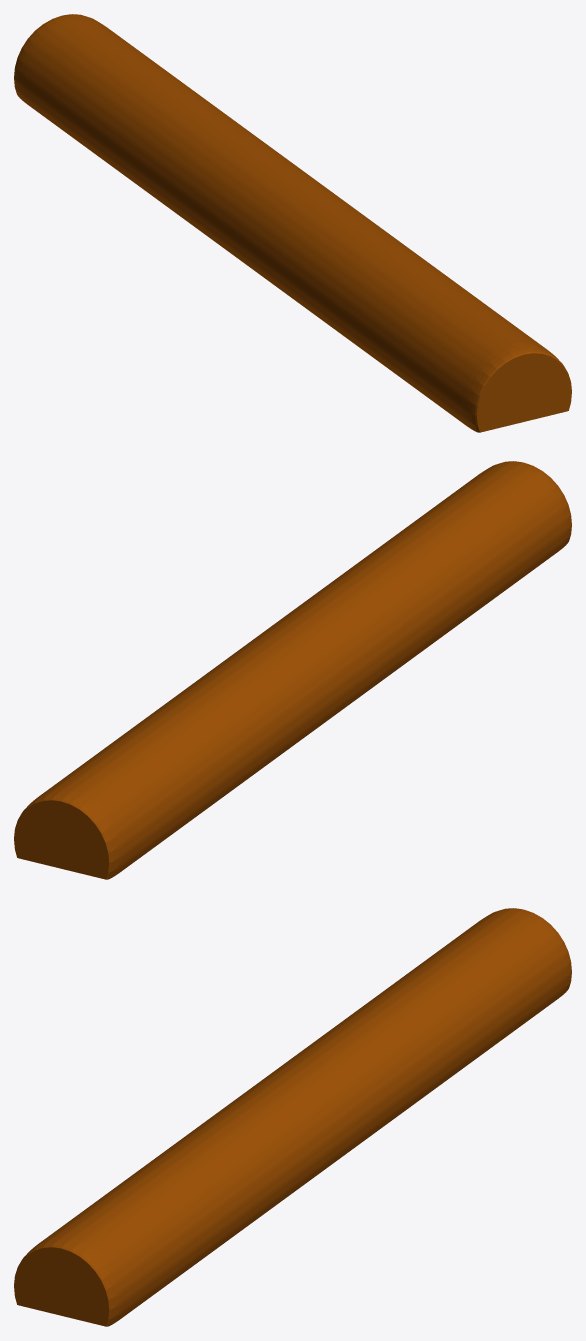
Rendered from YutNormal.fbx.
3 views of the same model, one above another, from view 1: azimuth 30°, elevation 25°; view 2: azimuth 150°, elevation 25°; view 3: azimuth 330°, elevation 25° (orthographic).
Visible parts, largest first — view 1: Yut; view 2: Yut; view 3: Yut.
Part boxes in pixels (<box>): Yut: <box>14,14,571,432</box>; Yut: <box>14,461,571,879</box>; Yut: <box>14,908,571,1326</box>.
Size of the model in its own units: 99.71 by 68.96 by 800.
